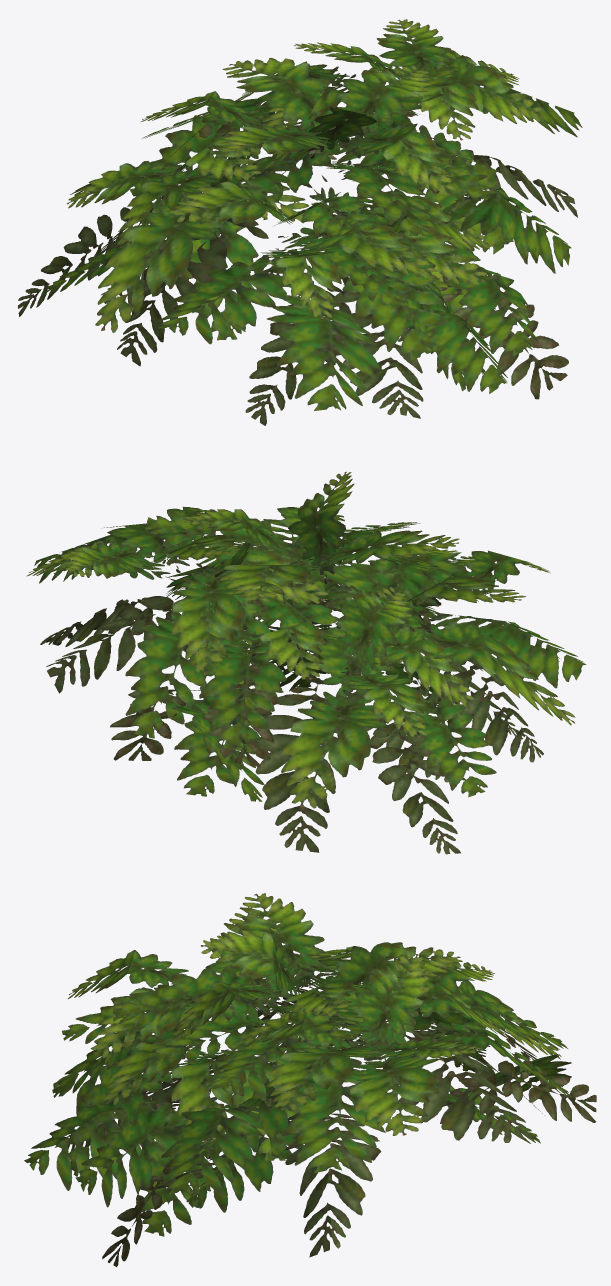
The model's file is zz_cao_4.FBX.
3 views of the same model, one above another, from view 1: azimuth 30°, elevation 25°; view 2: azimuth 150°, elevation 25°; view 3: azimuth 270°, elevation 25° (orthographic).
Parts seen in each view (by area): view 1: zz_cao_4; view 2: zz_cao_4; view 3: zz_cao_4.
Part boxes in pixels (x1,y1,x2,y2): zz_cao_4: (18, 19, 582, 425); zz_cao_4: (26, 471, 586, 854); zz_cao_4: (24, 893, 596, 1266).
Size of the model in its own units: 1308 by 669 by 1248.
